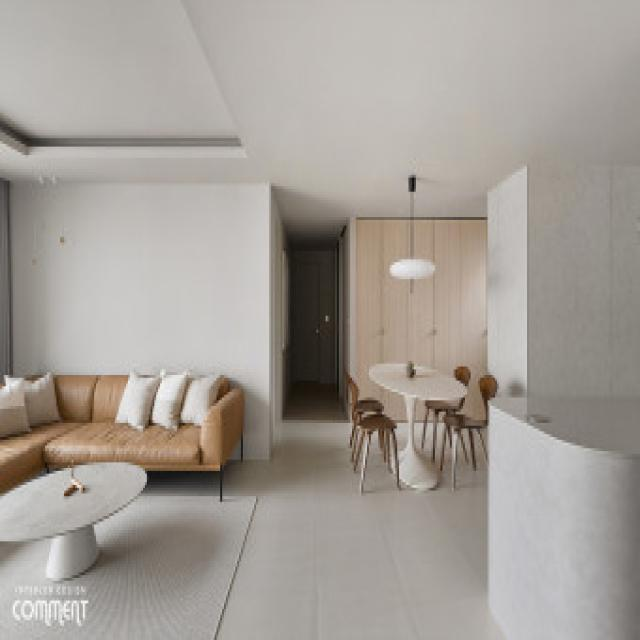Chair: (338, 375, 402, 497), (449, 375, 498, 477)
Sofa: (15, 359, 239, 485)
Table: (9, 462, 149, 584), (371, 355, 468, 494)
